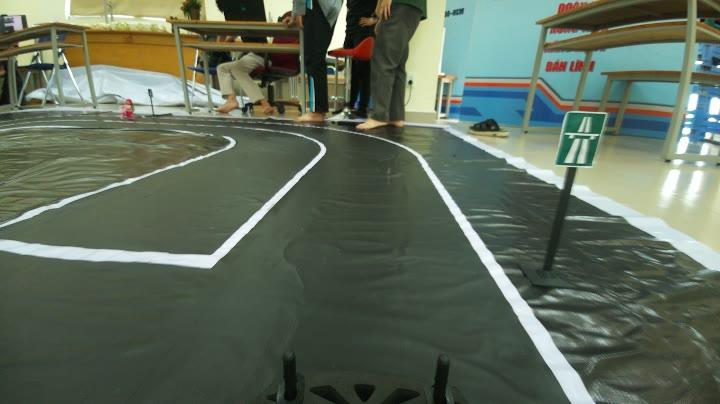highway_entry: (552, 107, 606, 172)
